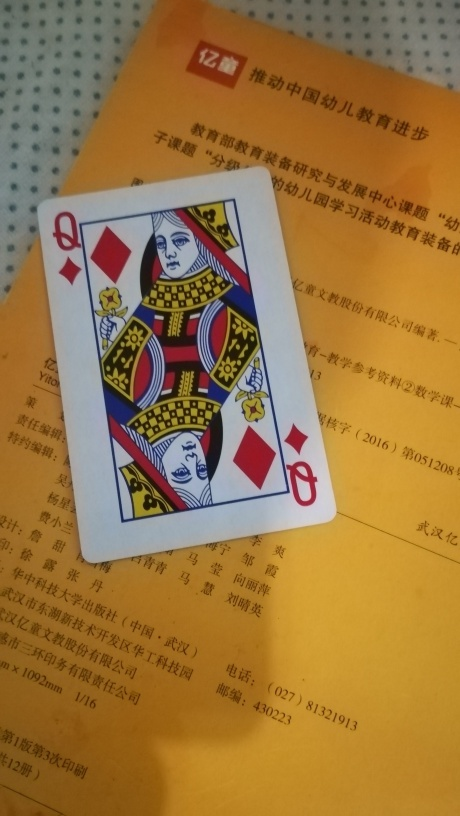fk q: (36, 165, 341, 563)
